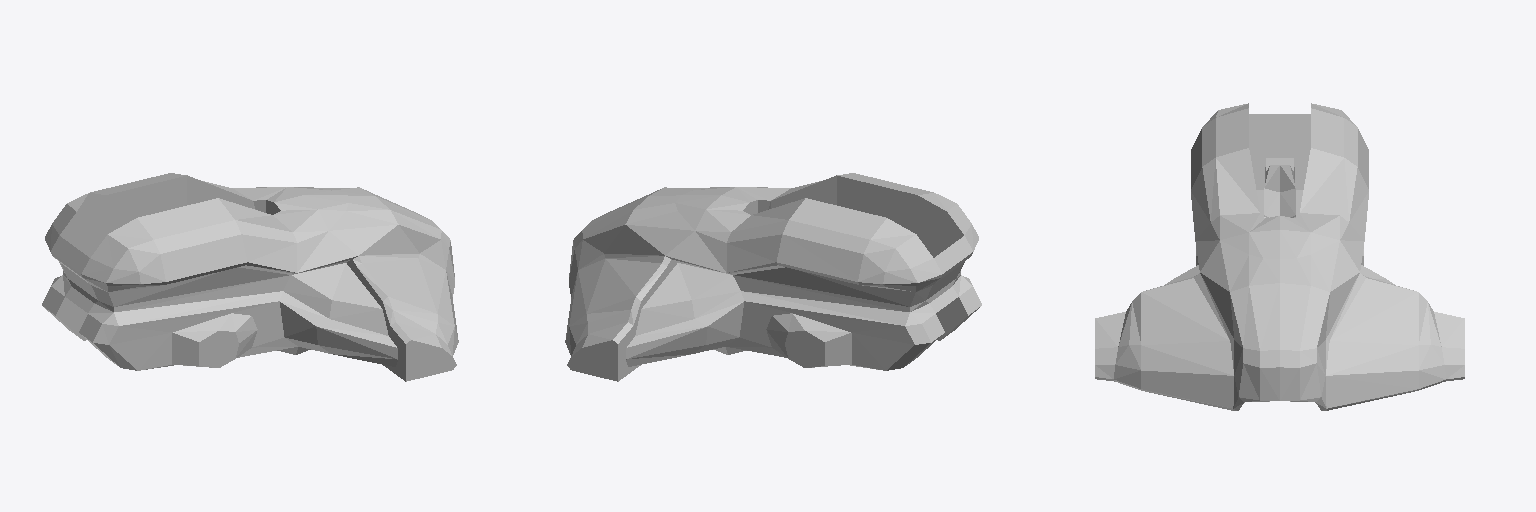
Rendered from chassis.obj.
3 renders of one model, left to right at view 1: azimuth 30°, elevation 25°; view 2: azimuth 150°, elevation 25°; view 3: azimuth 270°, elevation 25°, orthographic.
Visible parts, largest first — view 1: ungrouped; view 2: ungrouped; view 3: ungrouped.
Part boxes in pixels (x1,y1,x2,y2): ungrouped: (42, 173, 458, 381); ungrouped: (565, 173, 981, 381); ungrouped: (1095, 103, 1464, 410).
Size of the model in its own units: 6.1 by 2.52 by 5.14.